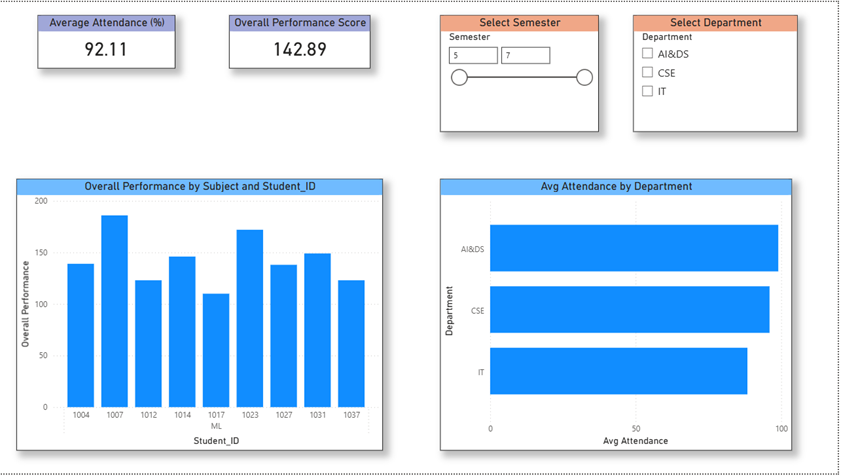

What the dashboard file says about the page in this screenshot:
{"tool":"powerbi","page":{"name":"Page 1","canvas":[1280,720],"ordinal":0},"visuals":[{"type":"card","title":"Average Attendance (%)","fields":{"Values":["5 student_performance.Avg Attendance"]},"box":[57.5,20,210,81.2],"z":2},{"type":"card","title":"Overall Performance Score","fields":{"Values":["5 student_performance.Overall Performance"]},"box":[350,20,216.2,81.2],"z":3},{"type":"slicer","title":"Select Department","fields":{"Values":["5 student_performance.Department"]},"box":[967.5,20,251.2,178.8],"z":4},{"type":"slicer","title":"Select Semester","fields":{"Values":["5 student_performance.Semester"]},"box":[672.5,20,242.5,178.8],"z":5},{"type":"clusteredColumnChart","fields":{"Category":["5 student_performance.Subject","5 student_performance.Student_ID"],"Y":["5 student_performance.Overall Performance"]},"box":[25,270,560,415],"z":6},{"type":"clusteredBarChart","fields":{"Category":["5 student_performance.Department"],"Y":["5 student_performance.Avg Attendance"]},"box":[672.5,270,537.5,415],"z":7}]}

Visuals, with their boxes in screenshot pixels (x1, y1, x2, y2), scaled from the page's 1280x720 canvas onto the 841x476 screenshot:
"Average Attendance (%)" card: 38:13:176:67
"Overall Performance Score" card: 230:13:372:67
"Select Department" slicer: 636:13:801:131
"Select Semester" slicer: 442:13:601:131
clusteredColumnChart - 5 student_performance.Subject x 5 student_performance.Student_ID: 16:178:384:453
clusteredBarChart - 5 student_performance.Department x 5 student_performance.Avg Attendance: 442:178:795:453
